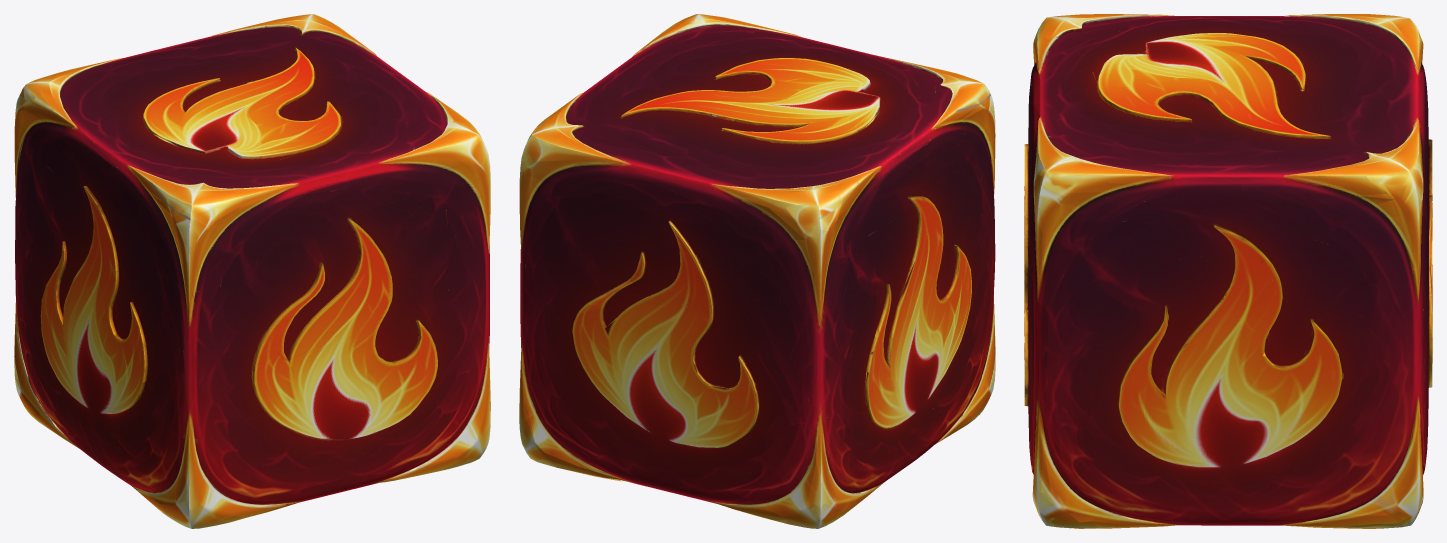
The model's file is Dé Feu v.1.glb.
3 views of the same model, side by side, from view 1: azimuth 30°, elevation 25°; view 2: azimuth 150°, elevation 25°; view 3: azimuth 270°, elevation 25° (orthographic). The views are drawn at different scales.
Parts seen in each view (by area): view 1: output_unwrapped; view 2: output_unwrapped; view 3: output_unwrapped.
Boxes of the visible parts, x1=… form: output_unwrapped: x1=14, y1=14, x2=490, y2=528; output_unwrapped: x1=519, y1=14, x2=995, y2=528; output_unwrapped: x1=1024, y1=14, x2=1432, y2=528.
Size of the model in its own units: 1.89 by 1.87 by 1.89.
1 material, 1 textured.
